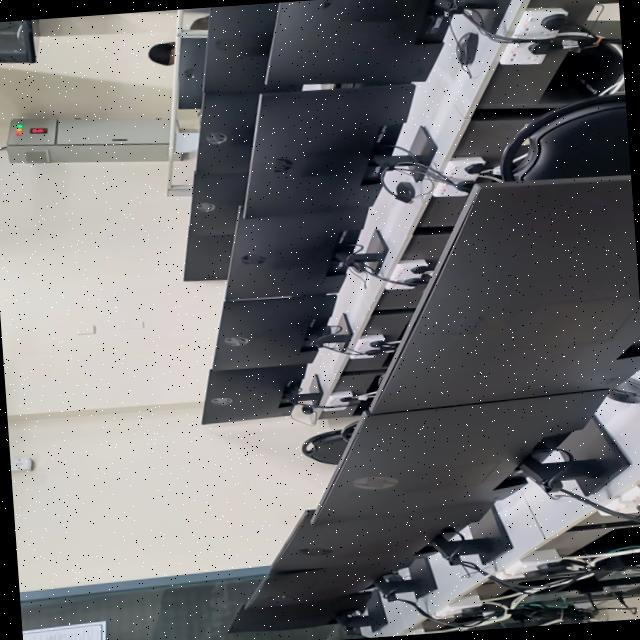Chair: (499, 93, 631, 181), (301, 429, 345, 465), (339, 422, 355, 441)
Cpu: (557, 20, 625, 98), (579, 526, 640, 580)
Monitor: (369, 176, 640, 413), (310, 390, 628, 525), (242, 84, 435, 219), (268, 0, 510, 85), (271, 506, 511, 571), (224, 210, 386, 301), (211, 294, 348, 370), (247, 559, 434, 608), (201, 365, 322, 424), (202, 2, 277, 95), (227, 590, 385, 633), (196, 93, 257, 174), (189, 172, 245, 234), (183, 231, 231, 281), (176, 39, 204, 109)
Mouse: (454, 32, 477, 76), (606, 379, 640, 403), (395, 182, 414, 203), (349, 262, 363, 272), (301, 405, 312, 414)
